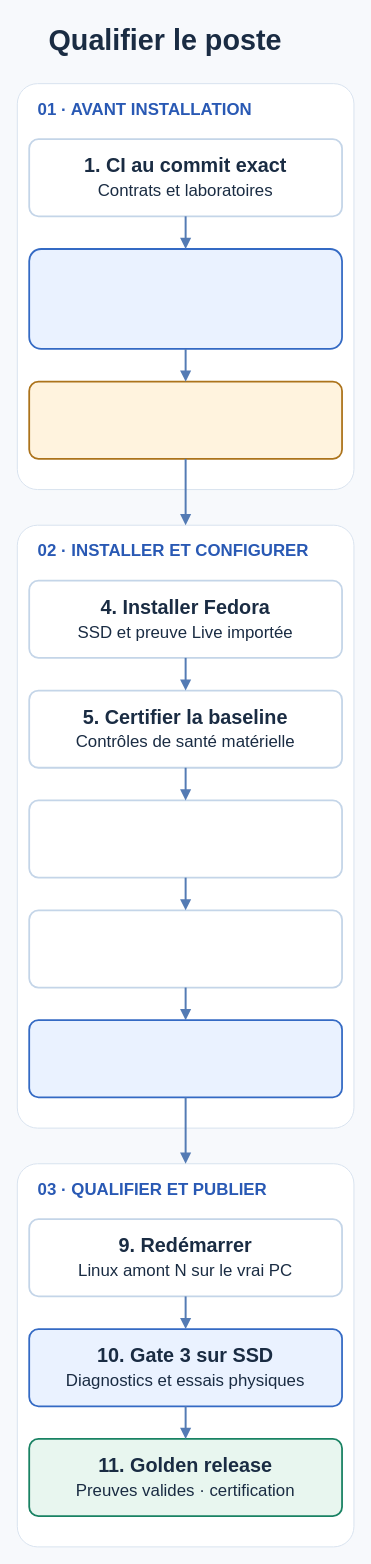
The diagram is 371 pixels wide and 1564 high, and some of its shapes have lost their labels. The shapes that lost their labels are listed below. From the top down, each one's box as (x1, y1, x2, y2) in pixels, then its label:
(28, 248, 342, 349): 2. Gate 2 · Live USB PREINSTALL_ONLY · preuve exportée
(28, 380, 342, 459): 3. Revue et accord humain GO / NO-GO avant tout effacement
(28, 799, 342, 878): 6. Exécuter le dry-run Plan sans modification réelle
(28, 909, 342, 988): 7. Sauvegarder avec Borg Pré-APPLY et canari vérifiés
(28, 1019, 342, 1098): 8. Exécuter l'APPLY Gardes et confirmation physique
